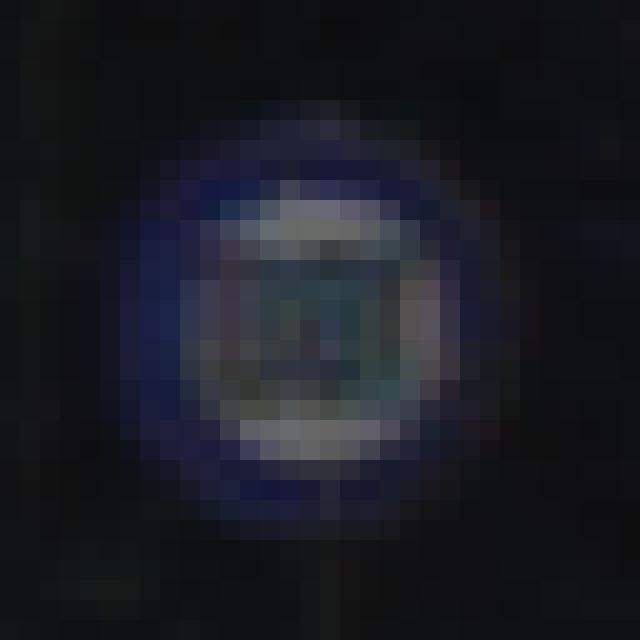SPEED LIMIT 100: (117, 141, 496, 511)
